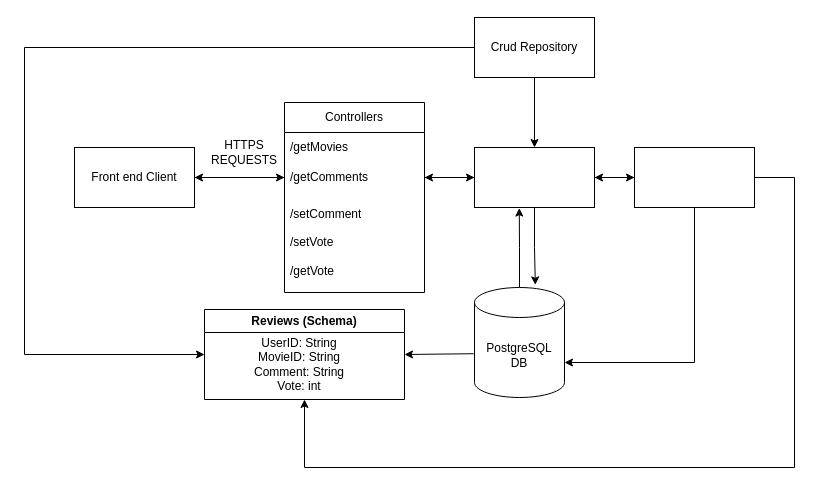
Some shapes in this 820 by 493 pixel diagram are drawn without their labels. Each missing label, with the box of its shape:
Models: (634, 146, 754, 208)
Services (Comment content, Like/Dislike): (474, 146, 594, 208)
